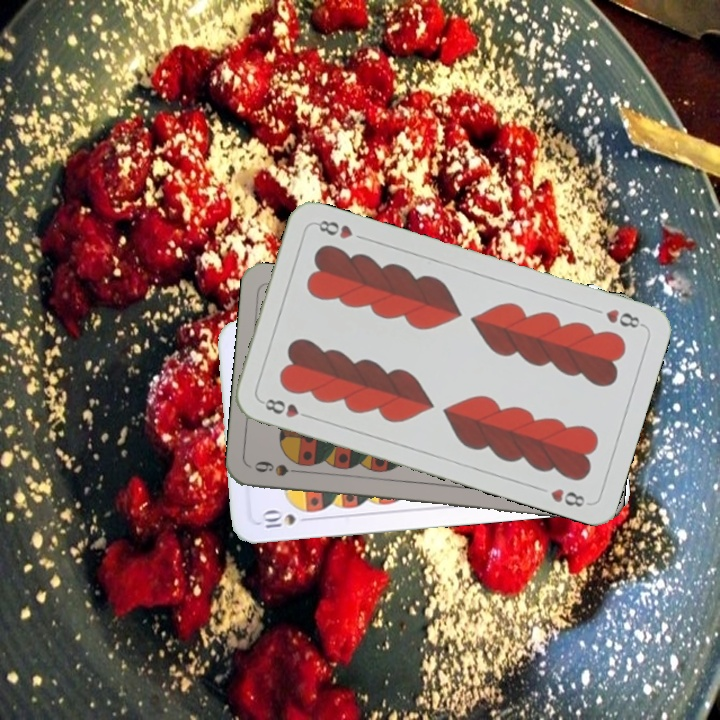H8: (257, 394, 315, 421), (601, 305, 647, 331)
S10: (258, 507, 315, 531)
S9: (250, 456, 309, 479)
